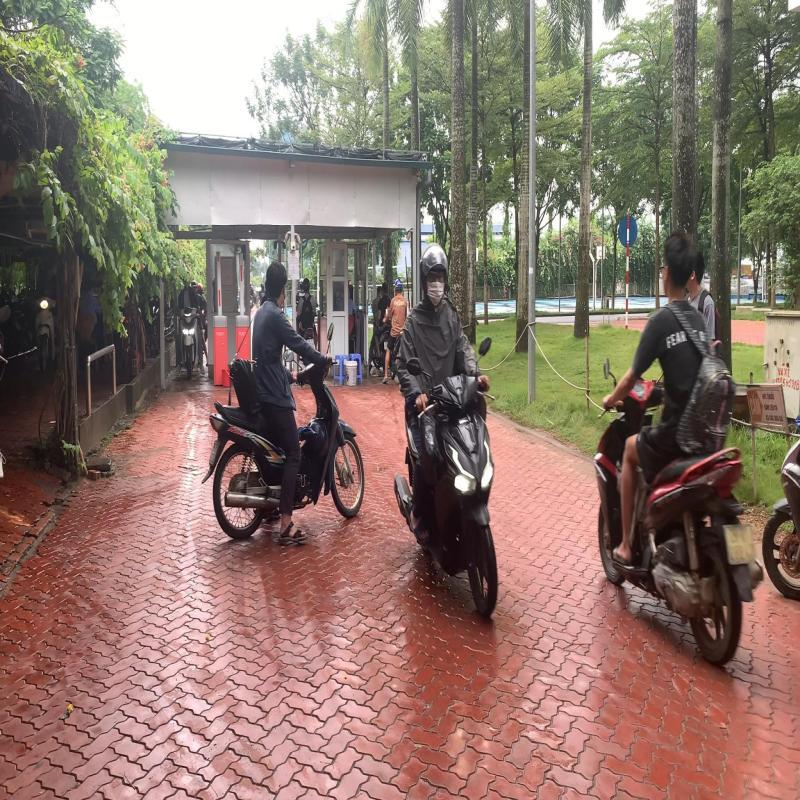nohelmet: (658, 229, 697, 299), (265, 258, 288, 308)
